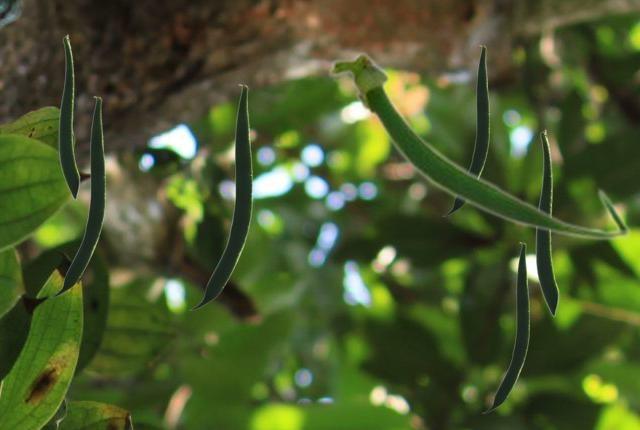french_bean: (326, 49, 631, 241), (189, 84, 251, 309), (50, 96, 104, 296), (442, 45, 488, 215), (482, 242, 528, 412), (535, 129, 558, 316), (58, 34, 79, 199)
